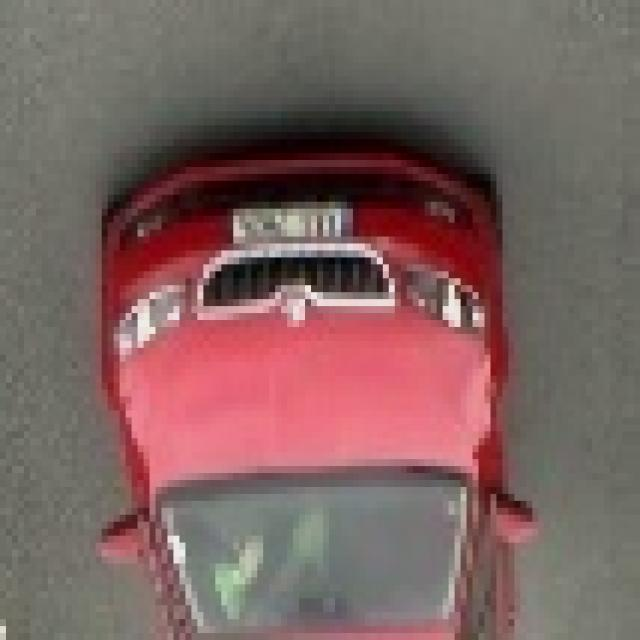red: (99, 140, 517, 634)
